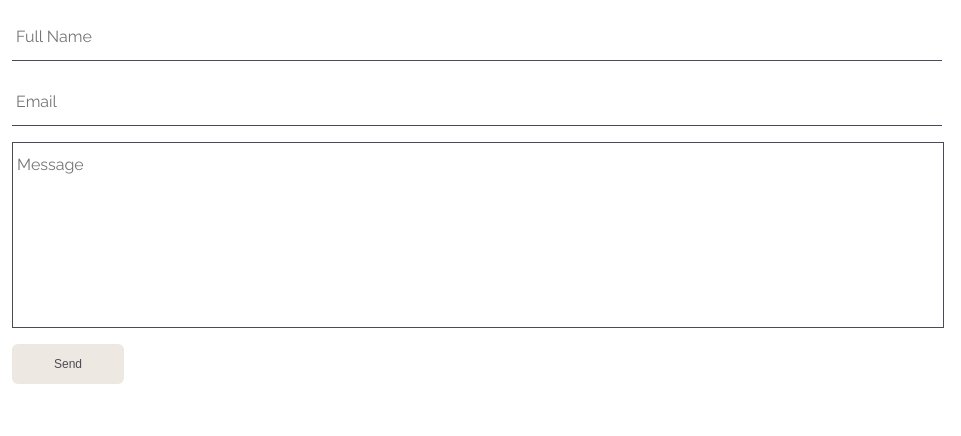
ContactForm › shows error for invalid email format
This screenshot has width=961, height=436.
Type "User" into the field with placeholder "Full Name" at (477, 36), box x1=12 y1=12 x2=942 y2=61
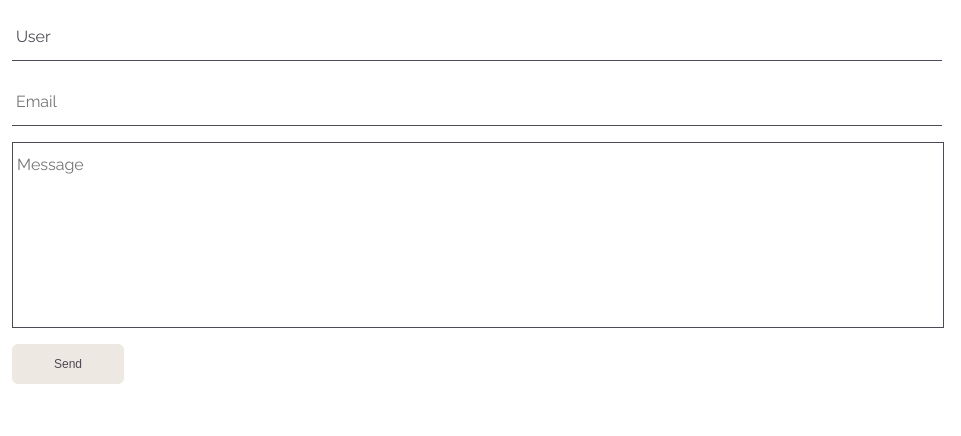
Type "invalid-email" into the field with placeholder "Email" at (477, 102), box x1=12 y1=77 x2=942 y2=126
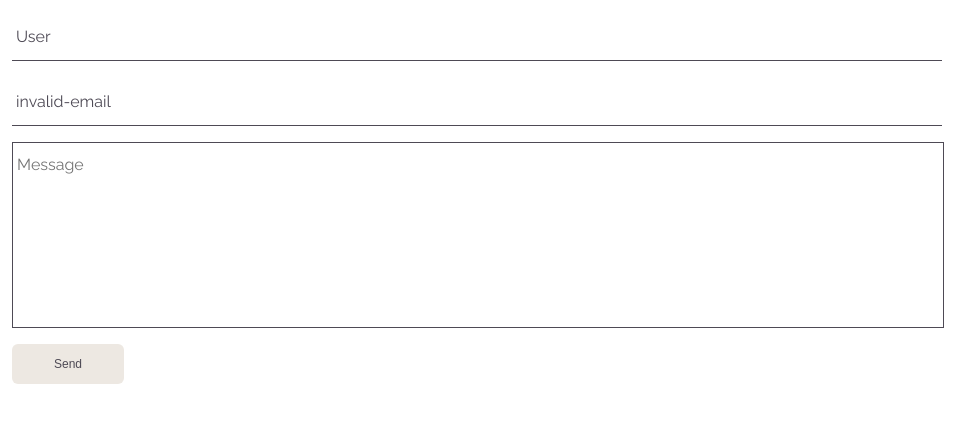
Type "Test message" into the text box with placeholder "Message" at (478, 235), box x1=12 y1=142 x2=944 y2=328
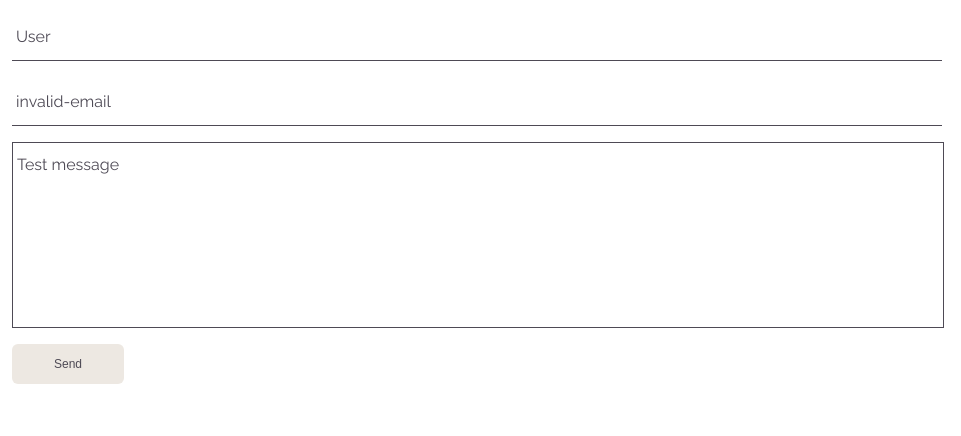
Click the button "Send" at (68, 364), box x1=12 y1=344 x2=124 y2=384
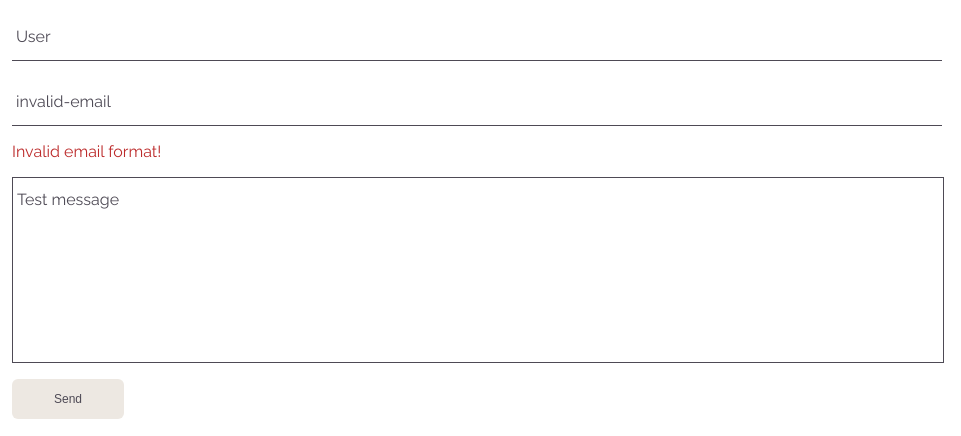
Expected: the text "Invalid email format!" is shown, x1=12 y1=142 x2=161 y2=161
